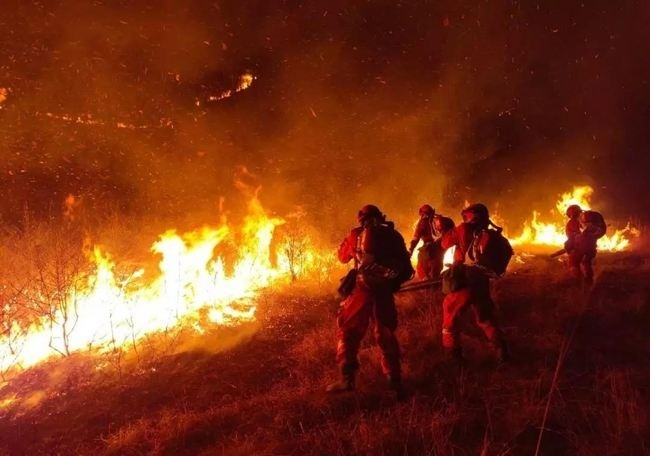fire: (2, 187, 318, 367), (507, 182, 637, 250)
